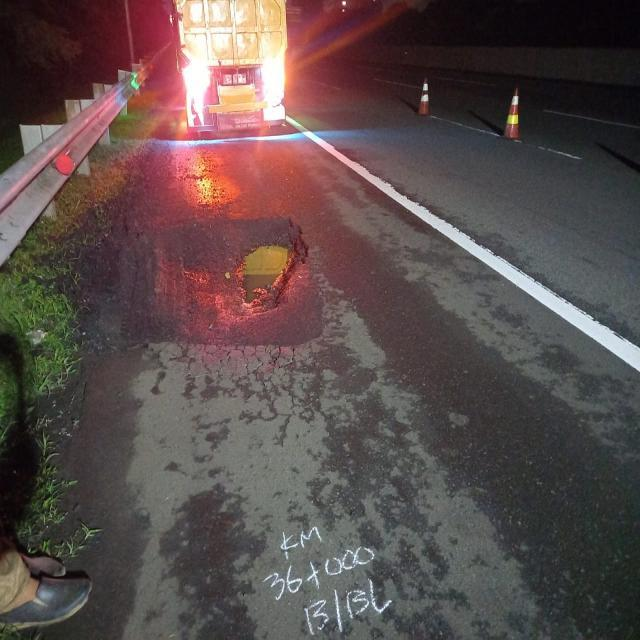Buraco: (151, 210, 313, 326)
